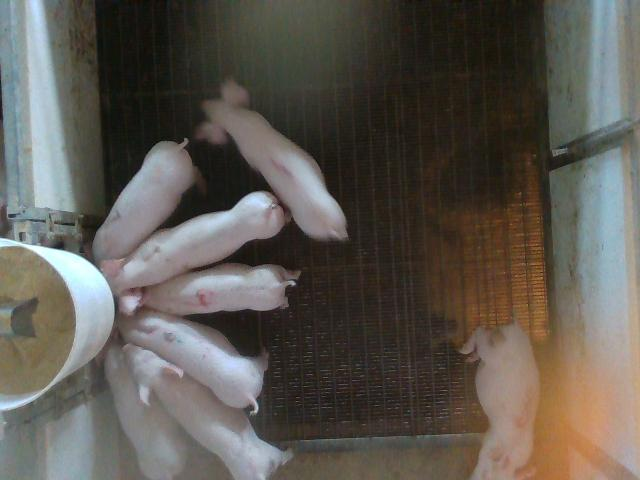pig-1: (195, 79, 348, 240)
pig-3: (460, 319, 540, 478)
pig-4: (142, 262, 300, 315)
